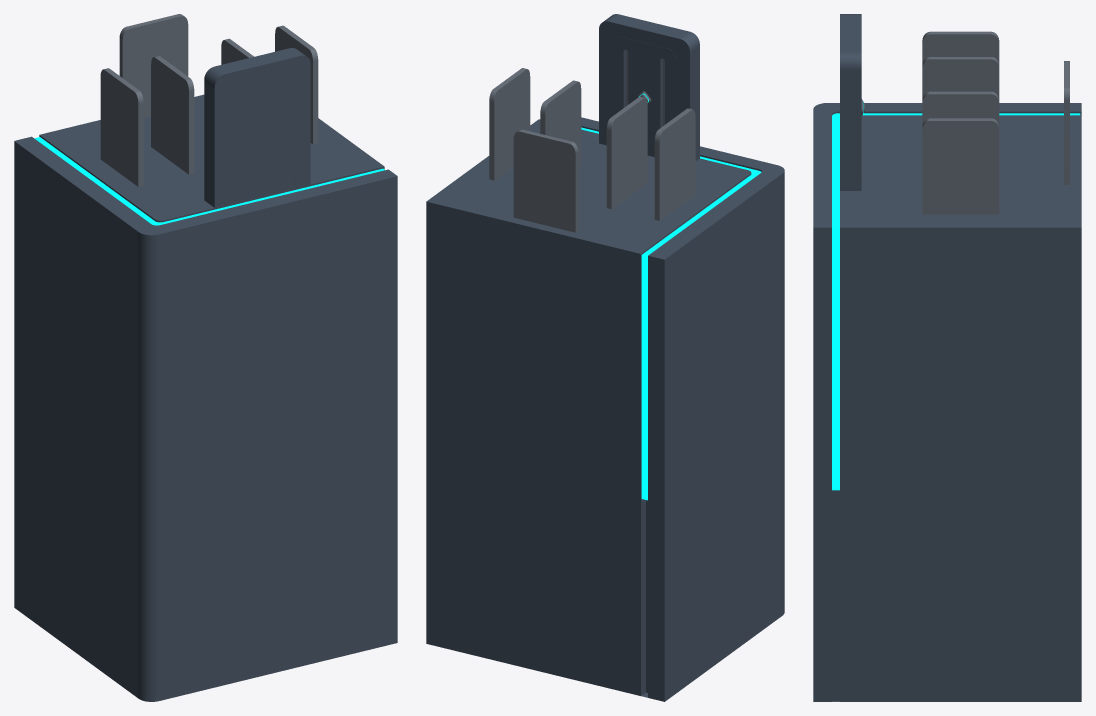
The model's file is Nivel_2-Modulo8.fbx.
3 views of the same model, side by side, from view 1: azimuth 30°, elevation 25°; view 2: azimuth 150°, elevation 25°; view 3: azimuth 270°, elevation 25° (orthographic). The views are drawn at different scales.
Visible parts, largest first — view 1: Part8_1, PuertaNivel2_3, pCube25, pCube30, polySurface16, pCube26, Part8_2; view 2: Part8_1, PuertaNivel2_3, polySurface16, pCube25, pCube30, pCube26, Part8_2, pCube31; view 3: Part8_1, pCube26, PuertaNivel2_3, Part8_2, pCube30, pCube31, pCube25, polySurface16.
Boxes of the visible parts, bbox=[...] form: Part8_1: bbox=[14, 94, 397, 701]; PuertaNivel2_3: bbox=[204, 48, 321, 211]; pCube25: bbox=[100, 68, 143, 186]; pCube30: bbox=[151, 56, 194, 174]; polySurface16: bbox=[119, 14, 188, 117]; pCube26: bbox=[275, 25, 318, 144]; Part8_2: bbox=[34, 137, 384, 225]; Part8_1: bbox=[426, 117, 784, 701]; PuertaNivel2_3: bbox=[599, 14, 699, 160]; polySurface16: bbox=[513, 129, 578, 232]; pCube25: bbox=[654, 108, 695, 220]; pCube30: bbox=[606, 96, 647, 209]; pCube26: bbox=[489, 68, 530, 180]; Part8_2: bbox=[581, 127, 761, 500]; pCube31: bbox=[540, 80, 581, 168]; Part8_1: bbox=[813, 103, 1081, 701]; pCube26: bbox=[922, 118, 999, 214]; PuertaNivel2_3: bbox=[840, 14, 864, 190]; Part8_2: bbox=[832, 113, 1080, 490]; pCube30: bbox=[922, 57, 999, 99]; pCube31: bbox=[922, 91, 999, 126]; pCube25: bbox=[922, 31, 999, 64]; polySurface16: bbox=[1064, 61, 1069, 184].
Bounding box in the file's own units: 11 × 24.98 × 10.
